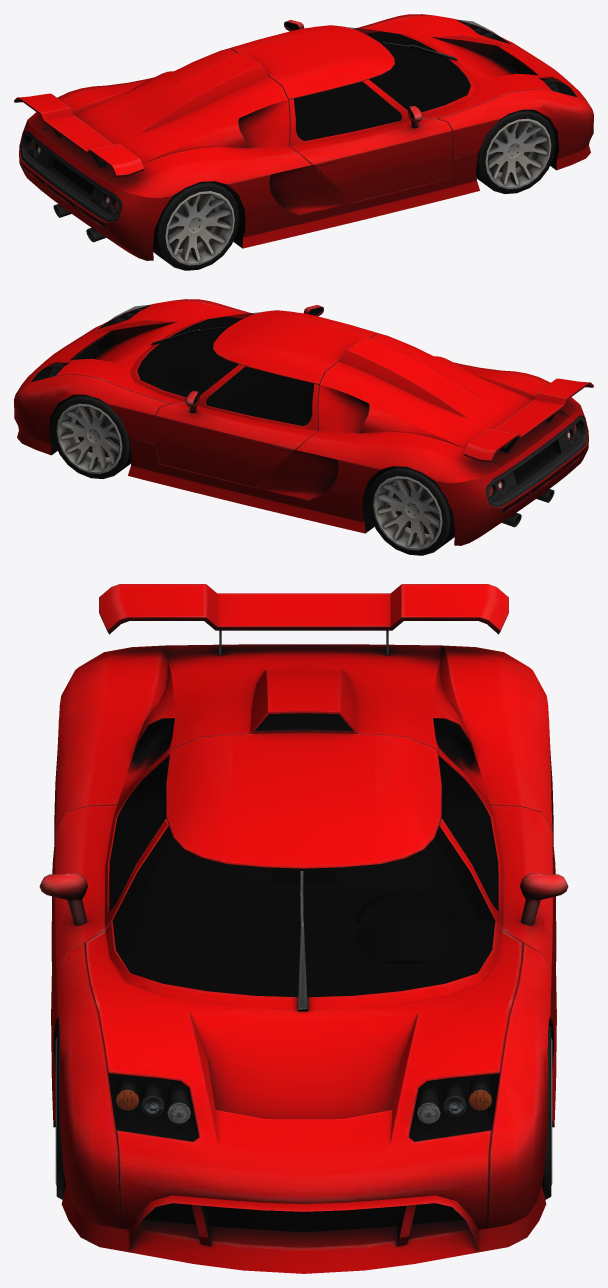
File: sport.glb
The picture shows the model from 3 angles, top to bottom: view 1: azimuth 30°, elevation 25°; view 2: azimuth 150°, elevation 25°; view 3: azimuth 270°, elevation 25°; orthographic projection. The views are drawn at different scales.
Visible parts, largest first — view 1: body, wheel (×2); view 2: body, wheel (×2); view 3: body, wheel (×2).
Part boxes in pixels (x1,y1,x2,y2): body: (14,14,593,260); wheel (×2): (153,109,555,270); body: (14,299,593,545); wheel (×2): (52,394,454,555); body: (39,584,568,1273); wheel (×2): (55,1026,552,1199).
Size of the model in its own units: 3.91 by 1.04 by 1.77.
Materials: 4 (3 with a texture image).
